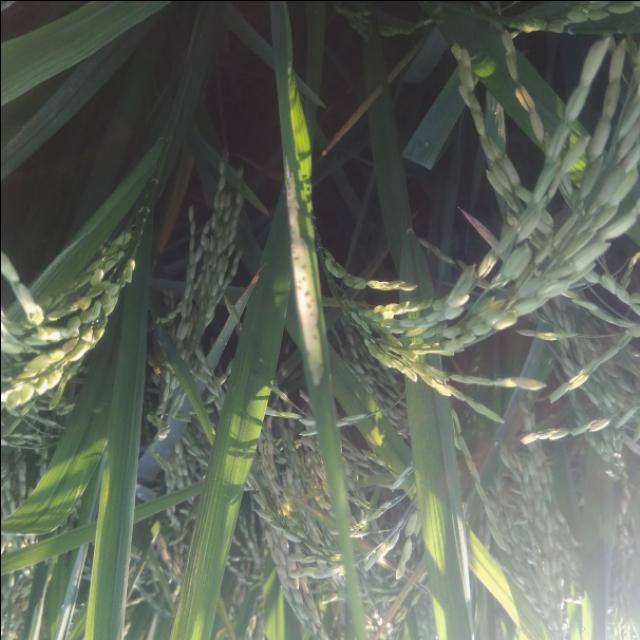Brown spot: (316, 72, 394, 160), (367, 581, 411, 640), (448, 196, 494, 246)
brown plant hopper: (274, 148, 329, 391)
